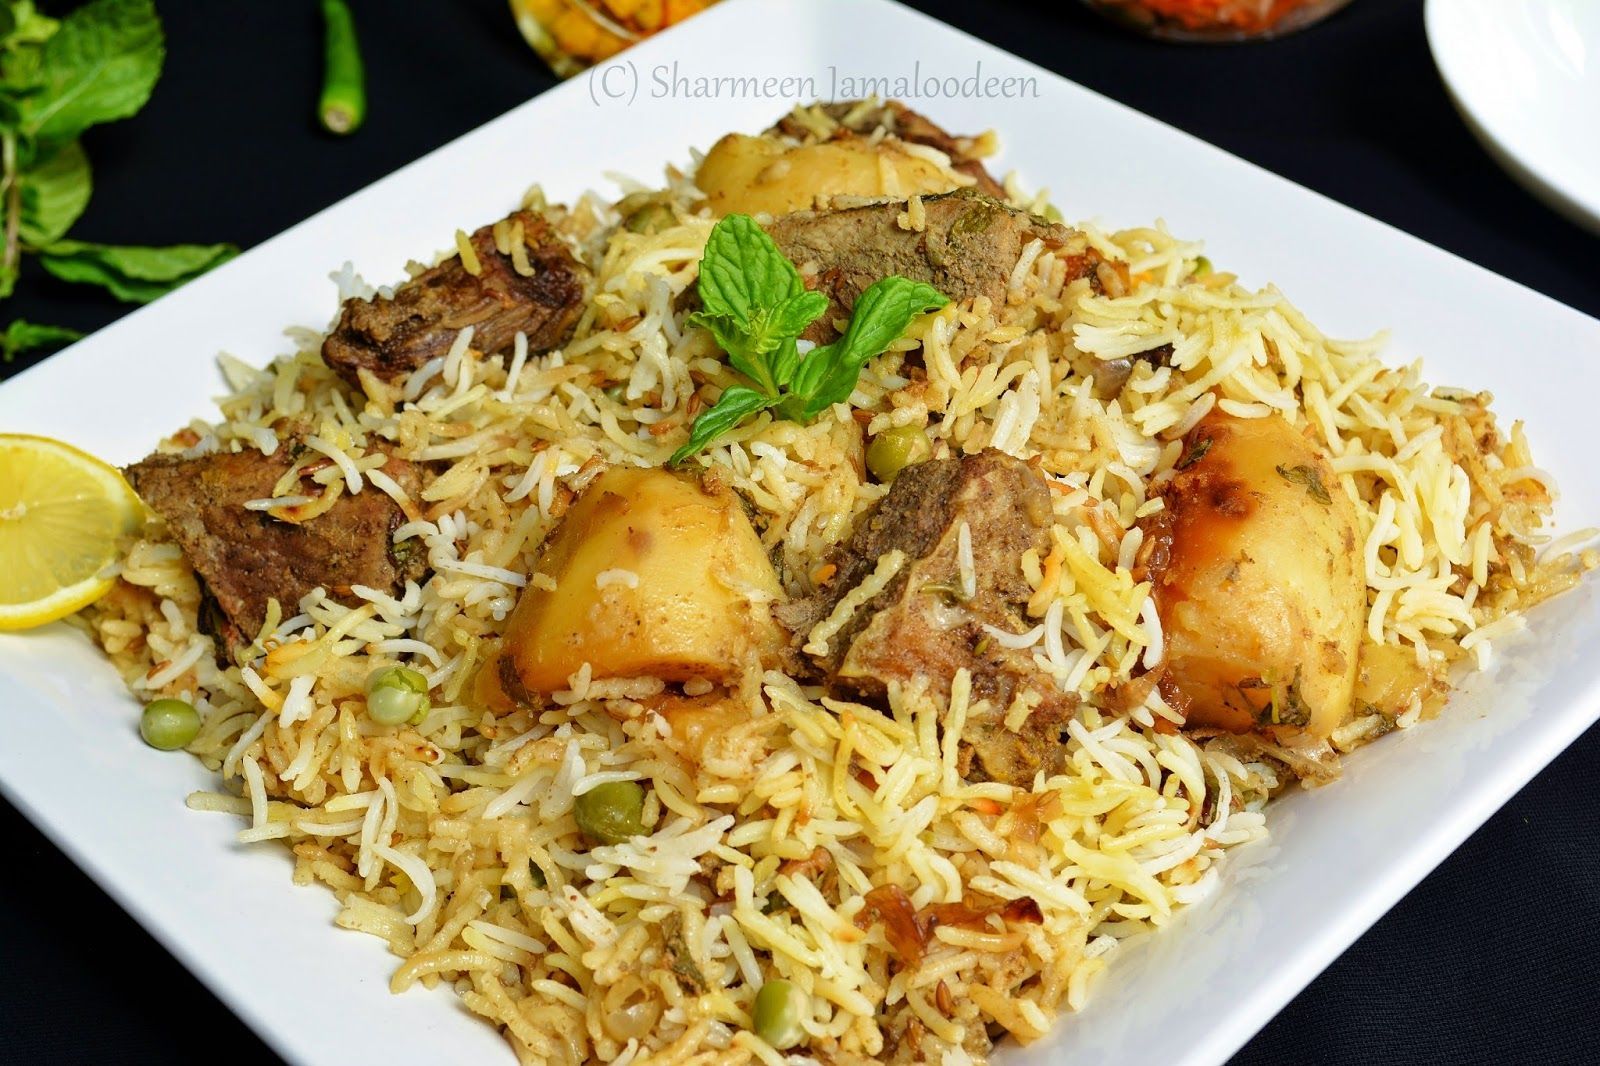Biryani: (79, 52, 1532, 1030)
